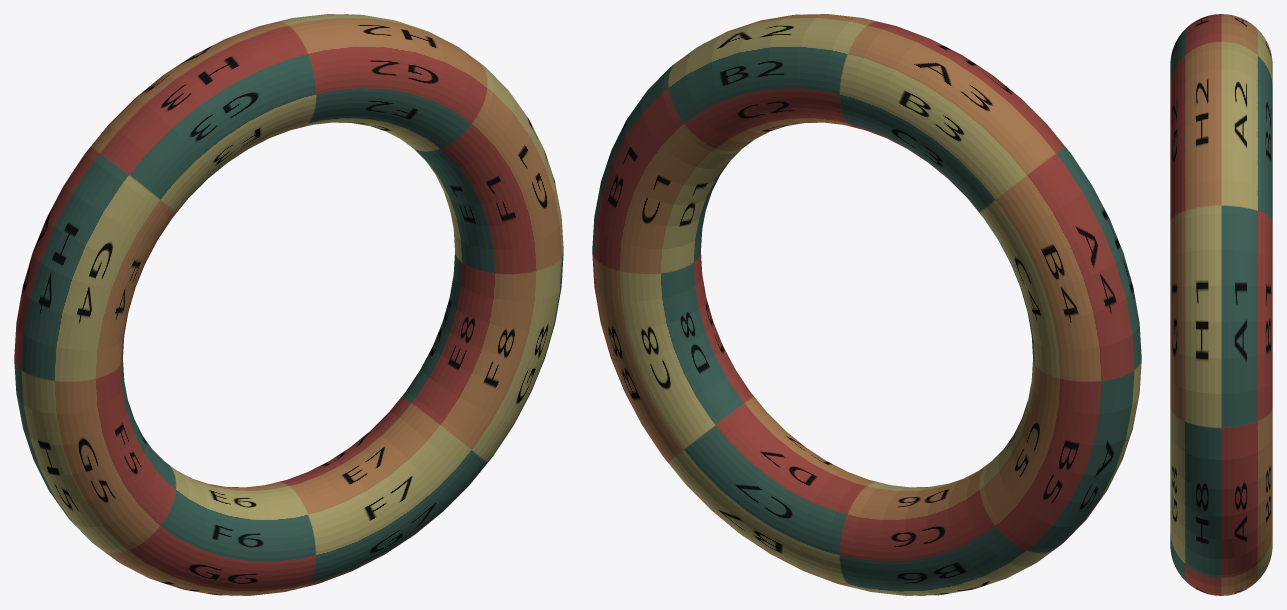
Rendered from texture_torus_R29_r16.glb.
The picture shows the model from 3 angles, left to right: view 1: azimuth 30°, elevation 25°; view 2: azimuth 150°, elevation 25°; view 3: azimuth 270°, elevation 25°; orthographic projection. The views are drawn at different scales.
Visible parts, largest first — view 1: world; view 2: world; view 3: world.
Boxes of the visible parts, <box> form: world: <box>14,14,563,595</box>; world: <box>592,14,1141,595</box>; world: <box>1170,14,1272,595</box>.
Bounding box in the file's own units: 35.6 × 35.53 × 6.25.
Materials: 1 (1 with a texture image).
